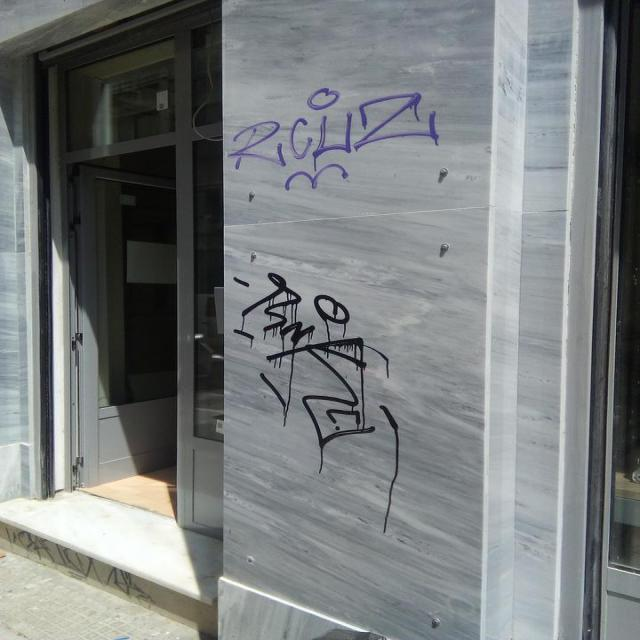nonspitting: (229, 271, 399, 447), (231, 86, 442, 195)
